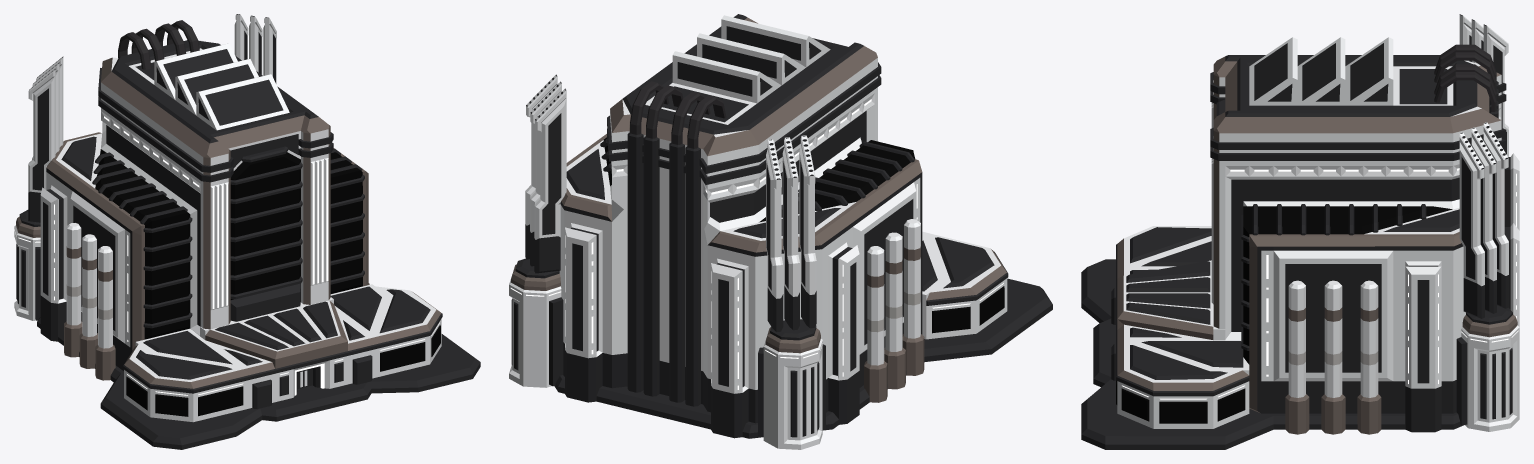
3 views of the same model, side by side, from view 1: azimuth 30°, elevation 25°; view 2: azimuth 150°, elevation 25°; view 3: azimuth 270°, elevation 25° (orthographic). The views are drawn at different scales.
Parts seen in each view (by area): view 1: GourmetFactory_BigBody, GourmetFactory_Body, GourmetFactory_Parts, GourmetFactory_Foundation, GourmetFactory_Chimney; view 2: GourmetFactory_BigBody, GourmetFactory_Parts, GourmetFactory_Chimney, GourmetFactory_Body, GourmetFactory_Foundation; view 3: GourmetFactory_BigBody, GourmetFactory_Body, GourmetFactory_Parts, GourmetFactory_Foundation, GourmetFactory_Chimney.
Boxes of the visible parts, x1=… form: GourmetFactory_BigBody: x1=14, y1=40, x2=368, y2=370; GourmetFactory_Body: x1=123, y1=284, x2=442, y2=422; GourmetFactory_Parts: x1=64, y1=20, x2=369, y2=380; GourmetFactory_Foundation: x1=37, y1=317, x2=480, y2=449; GourmetFactory_Chimney: x1=28, y1=14, x2=276, y2=222; GourmetFactory_BigBody: x1=509, y1=14, x2=922, y2=449; GourmetFactory_Parts: x1=600, y1=62, x2=924, y2=406; GourmetFactory_Chimney: x1=525, y1=74, x2=816, y2=332; GourmetFactory_Body: x1=922, y1=231, x2=1008, y2=339; GourmetFactory_Foundation: x1=554, y1=278, x2=1052, y2=438; GourmetFactory_BigBody: x1=1211, y1=37, x2=1519, y2=432; GourmetFactory_Body: x1=1111, y1=226, x2=1249, y2=428; GourmetFactory_Parts: x1=1210, y1=44, x2=1506, y2=434; GourmetFactory_Foundation: x1=1081, y1=259, x2=1463, y2=449; GourmetFactory_Chimney: x1=1459, y1=14, x2=1508, y2=318.
Size of the model in its own units: 3600 by 2770 by 3651.
Materials: 1 (1 with a texture image).
